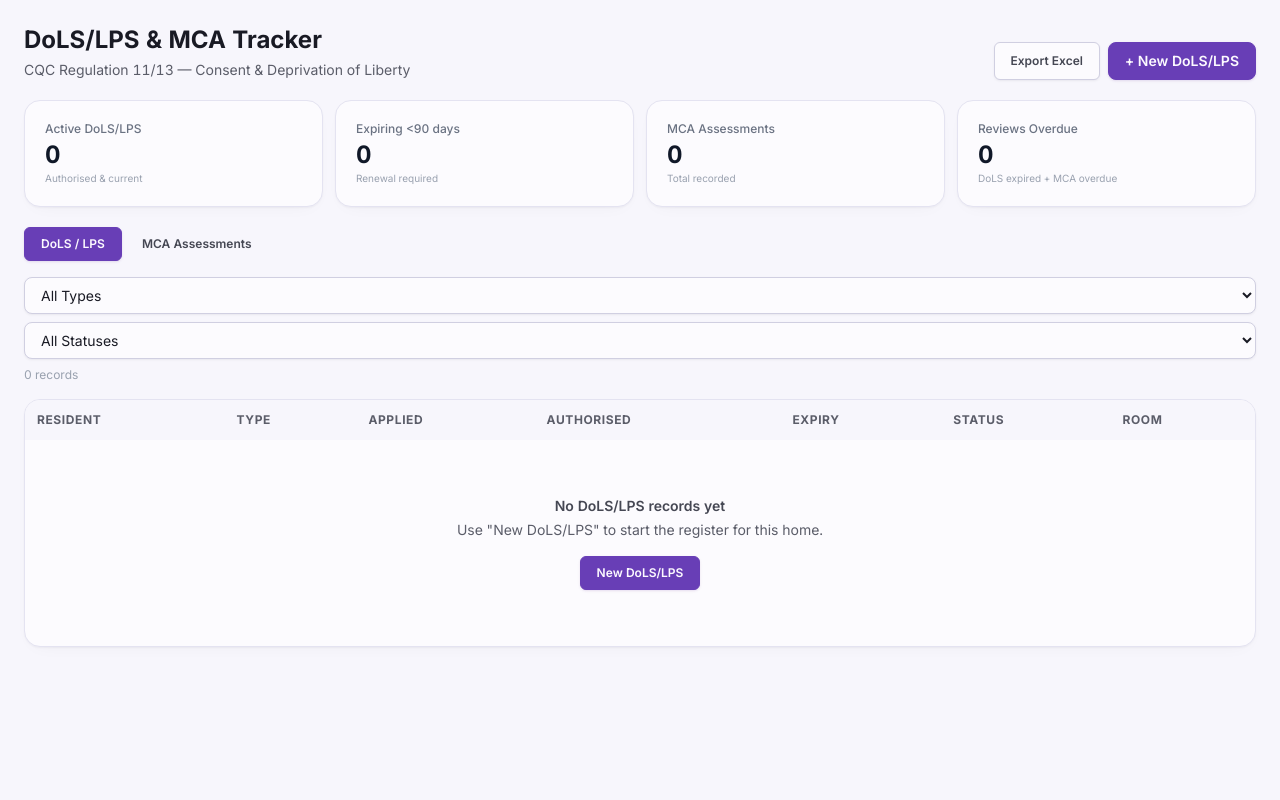
Scenario: DolsTracker › wires DoLS modal labels to their fields and disables save until required fields are present
Click the button "New DoLS/LPS".
click(640, 573)  # box [580,556,700,590]
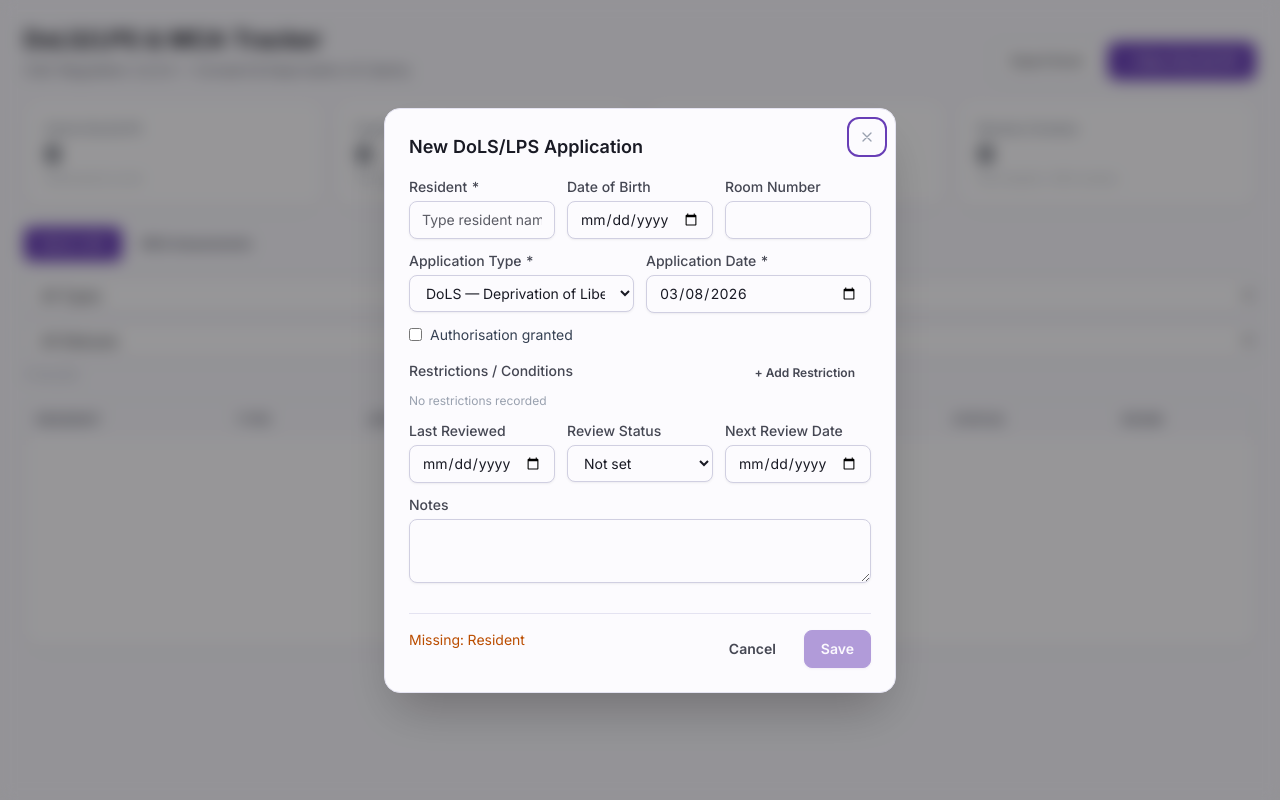
Result: the date field labelled "Application Date *" is shown at [646,274,871,312]
Result: the dropdown labelled "Application Type *" is shown at [409,274,634,312]
Result: the button "Save" is disabled at [804,630,871,668]
